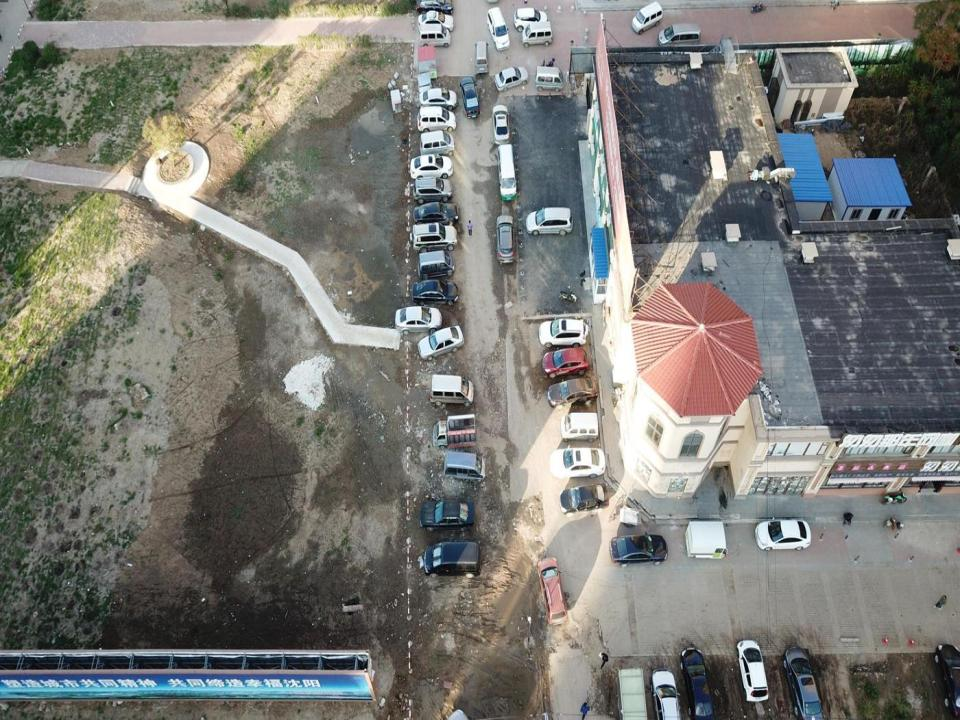car: (783, 645, 826, 719), (679, 647, 714, 719), (536, 557, 569, 623), (933, 642, 960, 719), (738, 640, 770, 704), (754, 517, 810, 553), (609, 532, 667, 566), (549, 448, 606, 482), (547, 378, 599, 412), (417, 325, 466, 360), (420, 500, 474, 531), (559, 481, 609, 514), (543, 344, 588, 378), (394, 307, 441, 336), (411, 276, 458, 305), (540, 319, 587, 347), (652, 670, 678, 719), (412, 204, 460, 230), (411, 152, 452, 182), (410, 176, 452, 204), (415, 11, 454, 37), (512, 6, 548, 33), (458, 77, 481, 119), (419, 88, 457, 112), (496, 217, 514, 264), (492, 104, 510, 148), (495, 68, 527, 90), (417, 0, 450, 15)
truck: (614, 667, 646, 719), (432, 413, 476, 449)
van: (424, 541, 481, 582), (428, 375, 476, 410), (526, 205, 574, 236), (443, 449, 485, 483), (412, 222, 459, 252), (656, 23, 702, 52), (417, 106, 456, 137), (498, 143, 517, 203), (561, 413, 599, 442), (415, 253, 454, 281), (485, 7, 509, 52), (418, 131, 455, 160), (632, 1, 662, 36), (519, 19, 555, 48), (534, 67, 564, 93), (418, 25, 450, 48), (474, 39, 490, 75)
